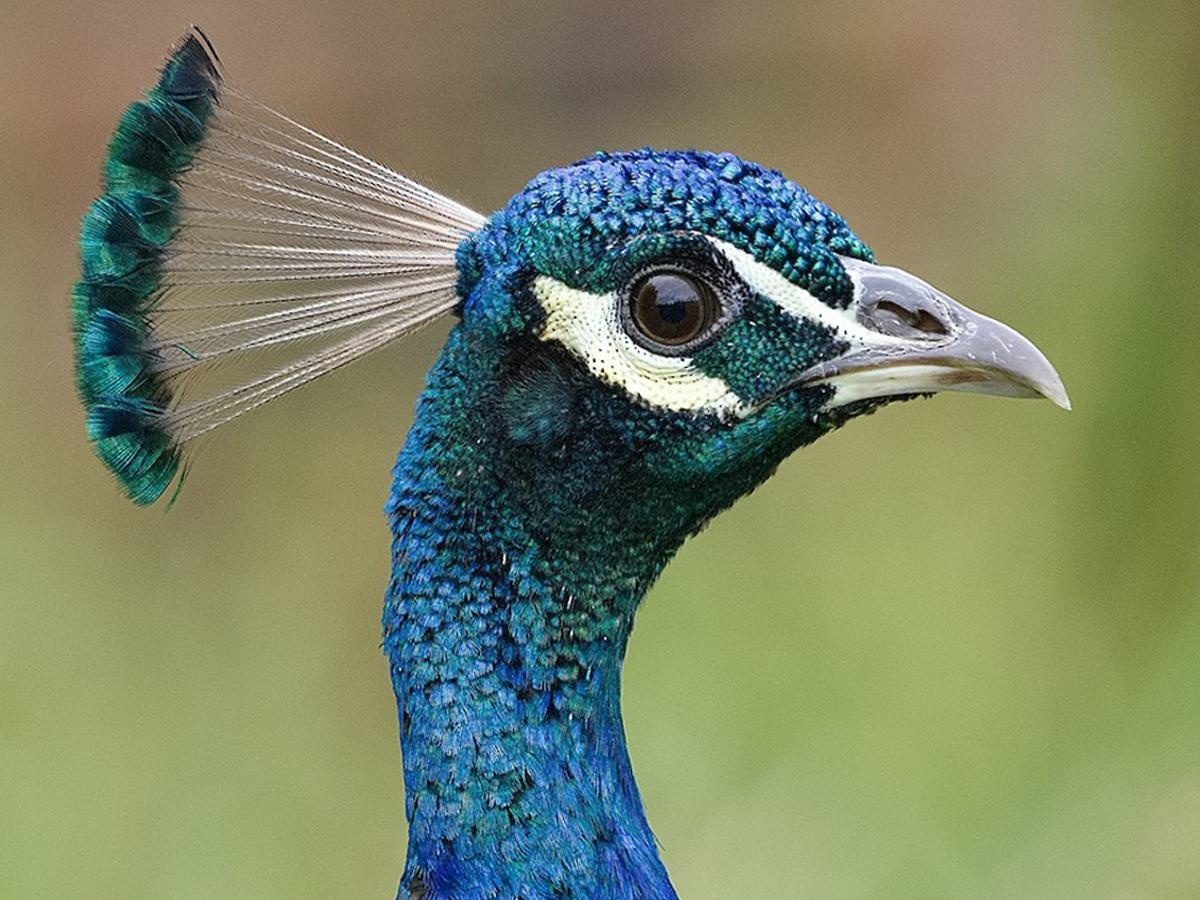peacock: (231, 132, 1055, 900)
